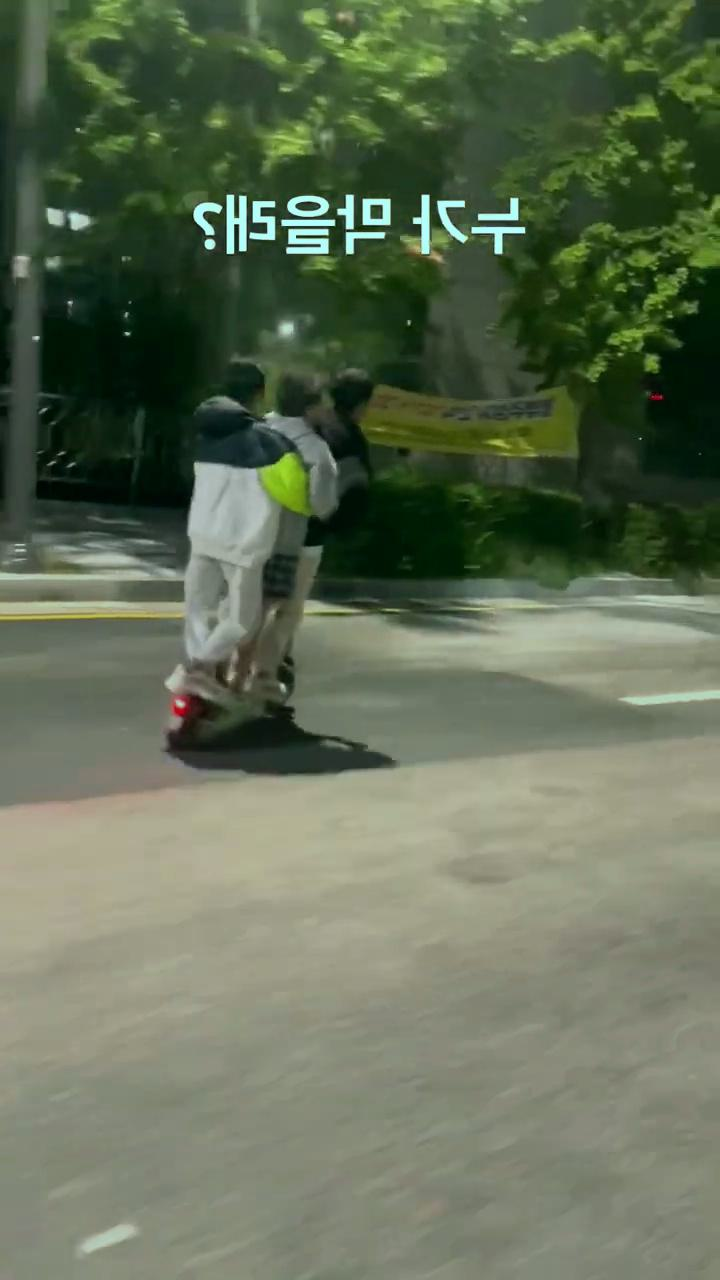multiple: (156, 355, 383, 755)
